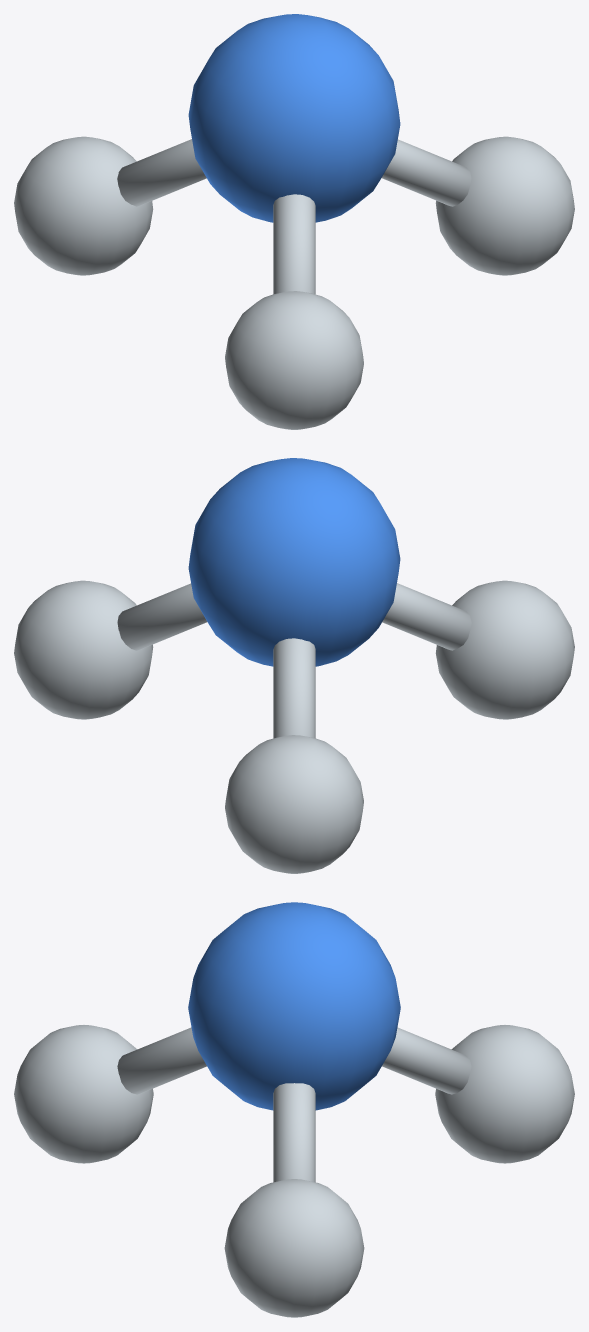
The model's file is ammonia-molecule-lite.glb.
The picture shows the model from 3 angles, top to bottom: view 1: azimuth 30°, elevation 25°; view 2: azimuth 150°, elevation 25°; view 3: azimuth 270°, elevation 25°; orthographic projection.
Visible parts, largest first — view 1: Nitrogen; view 2: Nitrogen; view 3: Nitrogen.
Part boxes in pixels (bbox=[...]): Nitrogen: bbox=[14, 14, 574, 429]; Nitrogen: bbox=[14, 458, 574, 873]; Nitrogen: bbox=[14, 902, 574, 1317].
Size of the model in its own units: 1.66 by 1.08 by 1.85.
